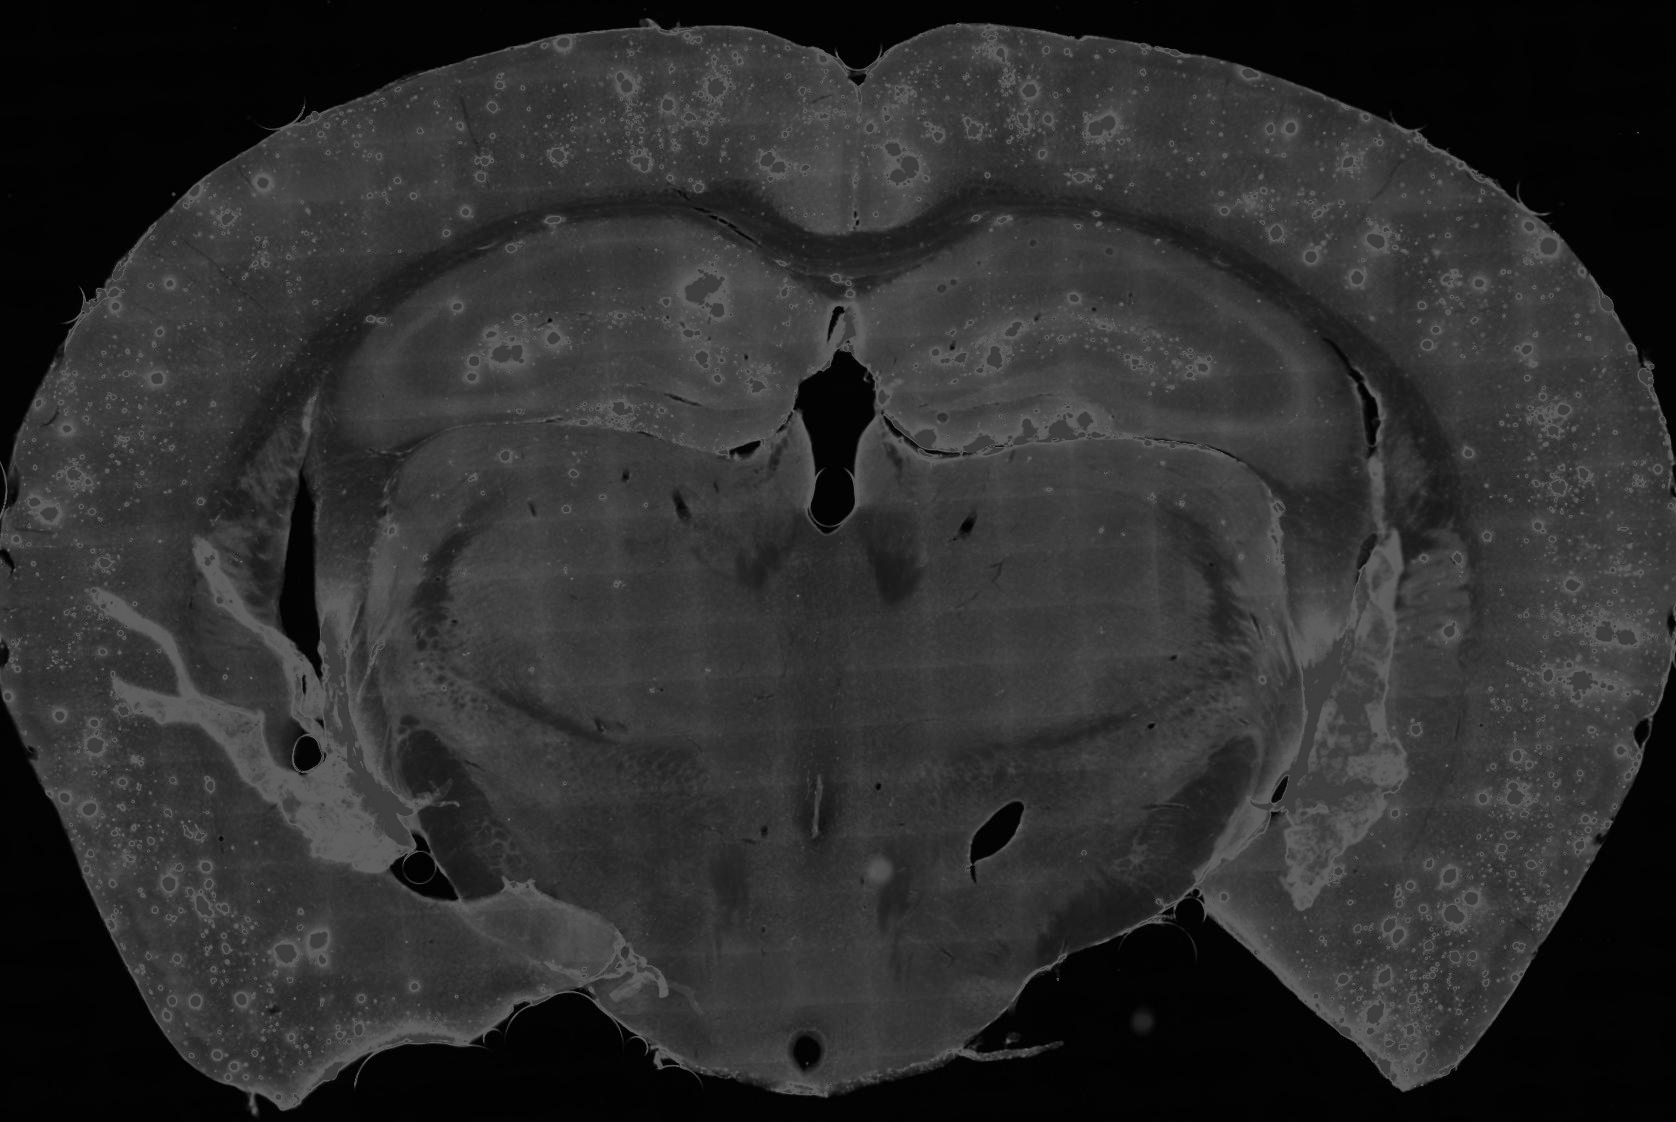Cerebral nuclei: (189, 396, 314, 763), (1381, 409, 1477, 724)
Hippocampal formation: (845, 218, 1357, 487), (342, 217, 857, 455)
Hypothalamus: (809, 687, 1268, 1096), (429, 694, 820, 1096)
Retrosplenial area: (745, 35, 860, 238), (855, 36, 973, 233)
Somatosensory area: (8, 30, 586, 510), (1106, 40, 1667, 498)
Thalamus: (819, 412, 1292, 784), (365, 413, 827, 784)
